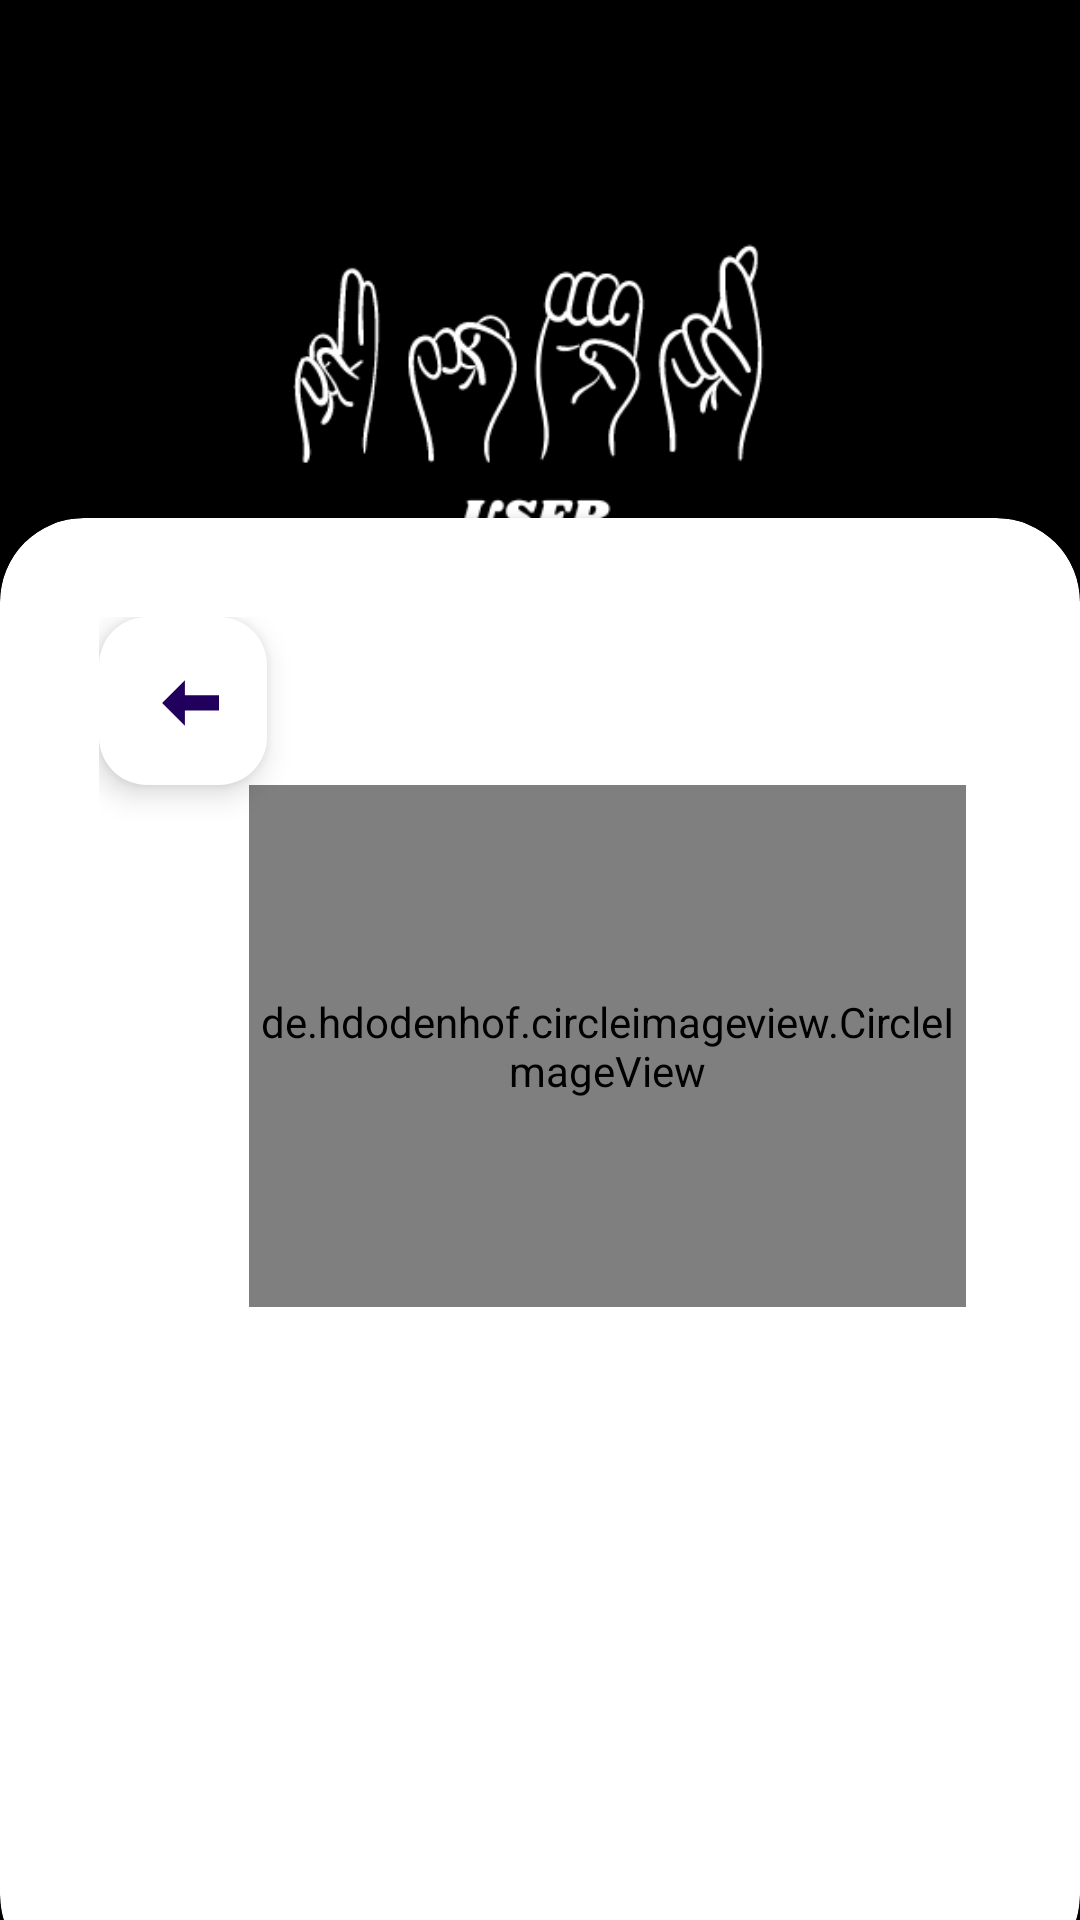

Where to tap for icons on this 1080 x 1920 app screen, as [x,y]:
arrow back: [178,717]
